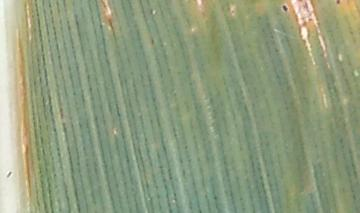tarspot: (5, 168, 12, 179), (281, 3, 289, 12), (150, 36, 155, 45), (334, 1, 342, 5)
